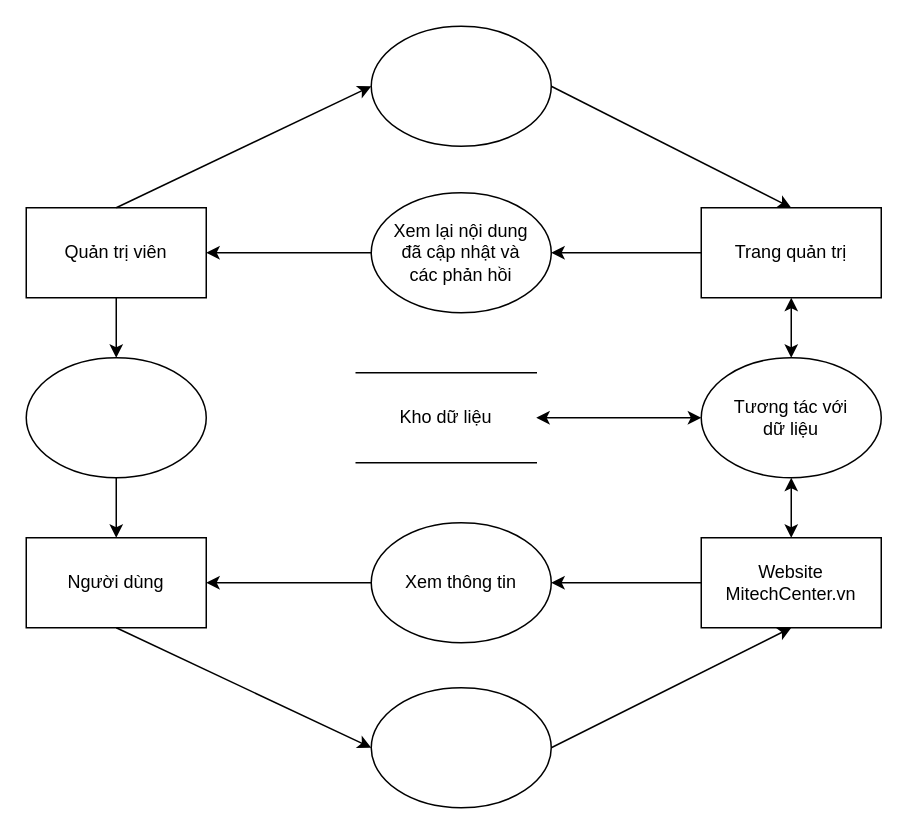
The diagram is 908 pixels wide and 834 high, and some of its shapes have lost their labels. Here are the shapes that lost their labels. From the top down, the centre of each, then its label:
At point (460, 85): "Cập nhật nội dung thông tin và bài trí".
At point (115, 417): "Trả lời phản hồi".
At point (460, 747): "Yêu cầu hoặc phản hồi".
